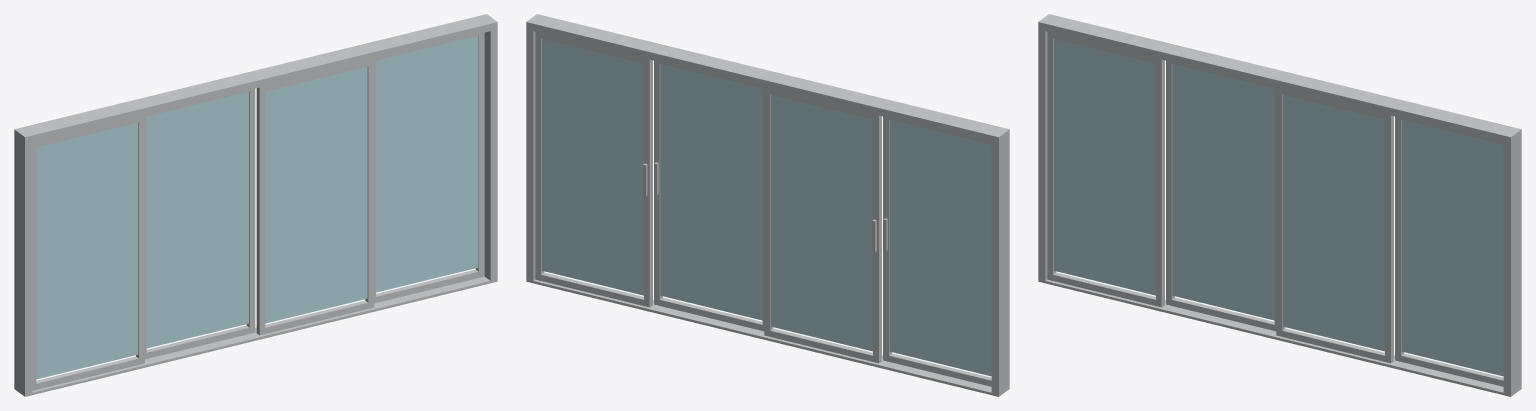
The model's file is opening.door.sliding_4000.glb.
3 renders of one model, left to right at view 1: azimuth 30°, elevation 25°; view 2: azimuth 150°, elevation 25°; view 3: azimuth 330°, elevation 25°, orthographic.
Visible parts, largest first — view 1: glazing__glass, frame__aluminium, leaf__aluminium; view 2: glazing__glass, frame__aluminium, leaf__aluminium, ironmongery__steel_stainless; view 3: glazing__glass, frame__aluminium, leaf__aluminium.
Part boxes in pixels (x1,y1,x2,y2): glazing__glass: [36, 36, 478, 379]; frame__aluminium: [14, 14, 497, 396]; leaf__aluminium: [32, 32, 484, 390]; glazing__glass: [541, 39, 991, 376]; frame__aluminium: [526, 14, 1009, 396]; leaf__aluminium: [535, 31, 991, 386]; ironmongery__steel_stainless: [643, 162, 887, 252]; glazing__glass: [1053, 39, 1503, 376]; frame__aluminium: [1038, 14, 1521, 396]; leaf__aluminium: [1047, 31, 1503, 386].
Bounding box in the file's own units: 4 × 2.1 × 0.16.
